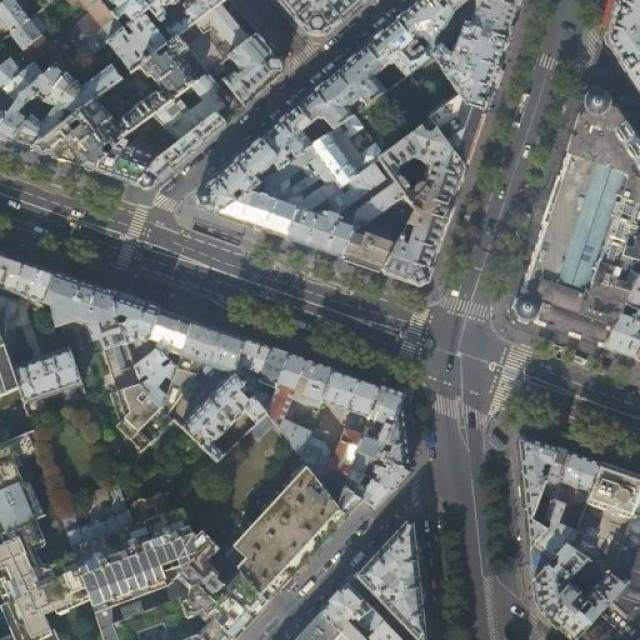immeuble: (218, 1, 524, 270), (516, 434, 638, 630), (84, 80, 225, 177), (228, 471, 338, 591), (68, 535, 228, 613), (42, 277, 151, 346), (178, 375, 269, 457), (365, 516, 429, 627), (0, 537, 73, 634), (101, 352, 174, 444), (109, 12, 190, 83), (290, 596, 409, 638), (270, 354, 338, 405), (592, 293, 640, 362), (336, 436, 392, 494), (539, 284, 596, 339), (22, 358, 92, 402), (178, 331, 238, 375), (36, 70, 91, 115), (316, 373, 370, 417), (141, 316, 197, 358), (226, 344, 282, 386), (0, 0, 52, 45), (0, 256, 46, 302), (0, 106, 45, 150), (0, 473, 32, 531), (0, 62, 42, 103), (357, 387, 397, 424)
